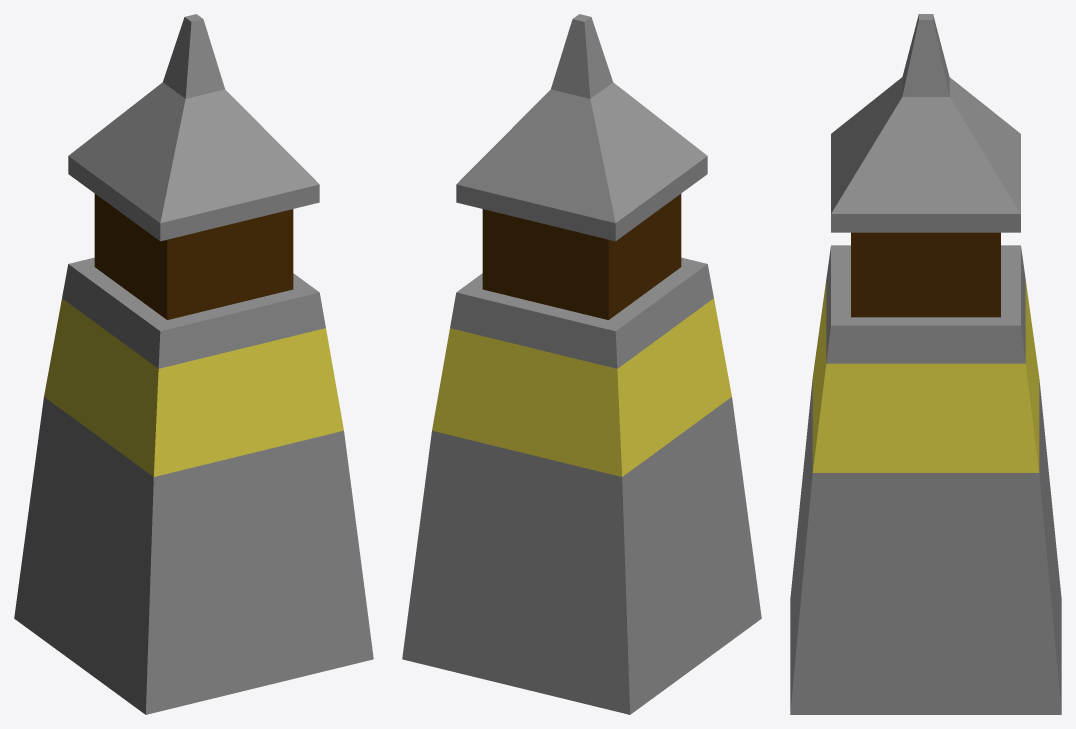
Rendered from SM_TilePlayerTower.fbx.
The picture shows the model from 3 angles, left to right: view 1: azimuth 30°, elevation 25°; view 2: azimuth 150°, elevation 25°; view 3: azimuth 270°, elevation 25°; orthographic projection. The views are drawn at different scales.
Parts seen in each view (by area): view 1: TilePlayerTower; view 2: TilePlayerTower; view 3: TilePlayerTower.
Part boxes in pixels (<box>): TilePlayerTower: <box>14,14,373,714</box>; TilePlayerTower: <box>402,14,761,714</box>; TilePlayerTower: <box>790,14,1061,714</box>.
Size of the model in its own units: 96.95 by 252 by 96.95.
